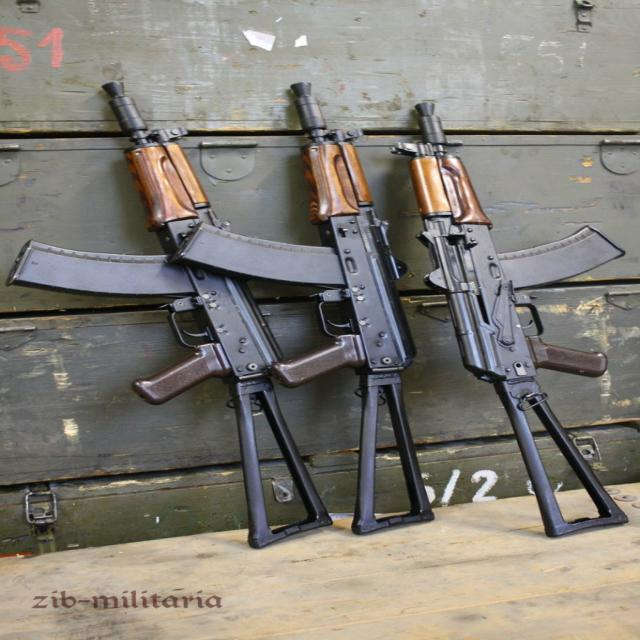firearm: (10, 77, 337, 548), (171, 78, 439, 537), (392, 99, 640, 539)
